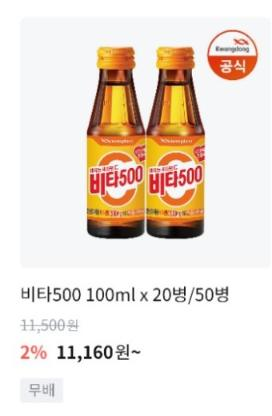Glass Bottle: (144, 43, 210, 239), (86, 46, 146, 240)
